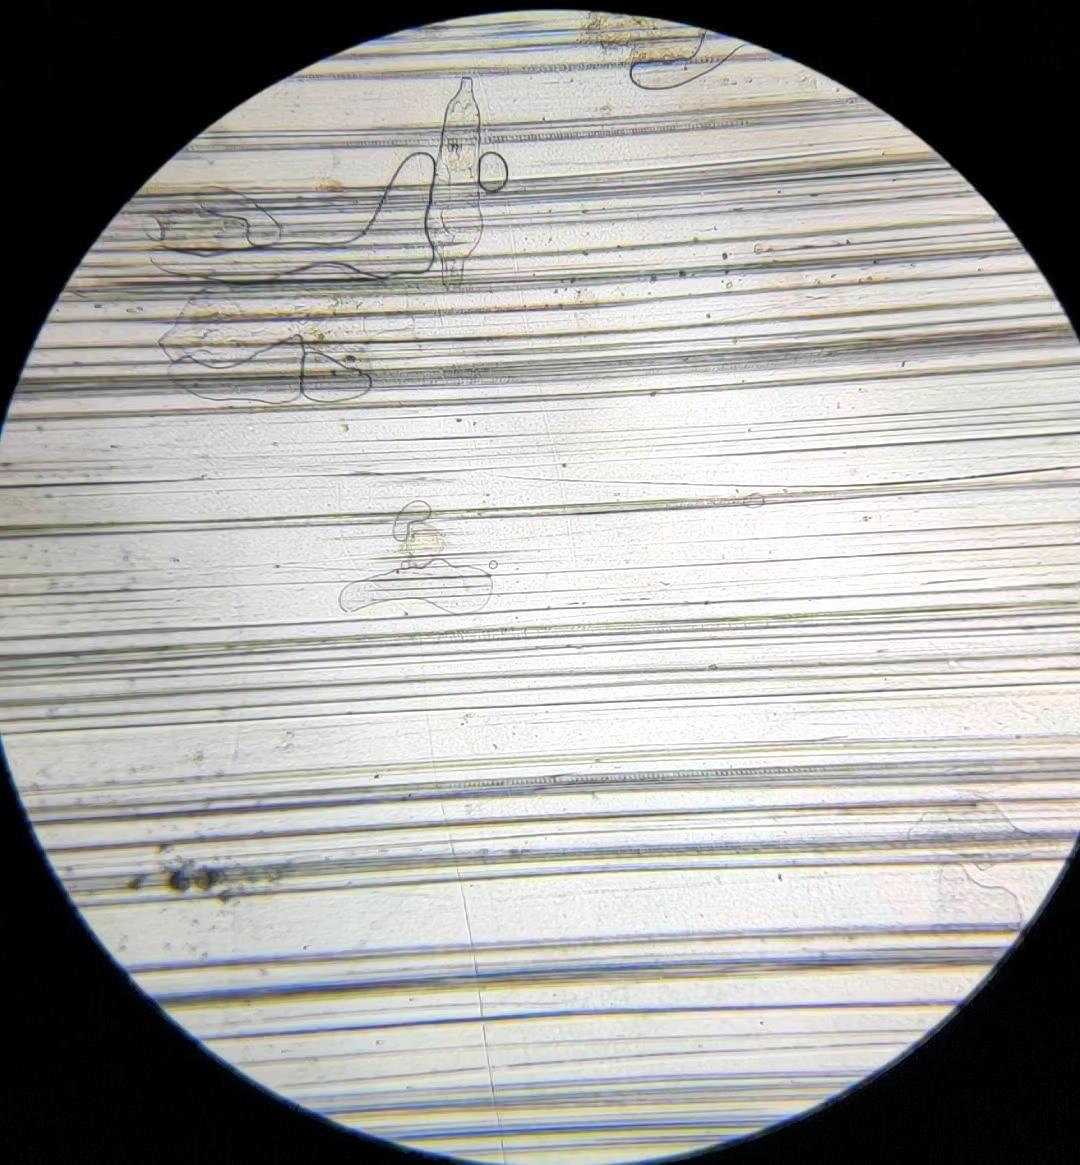Do: (426, 77, 484, 293)
